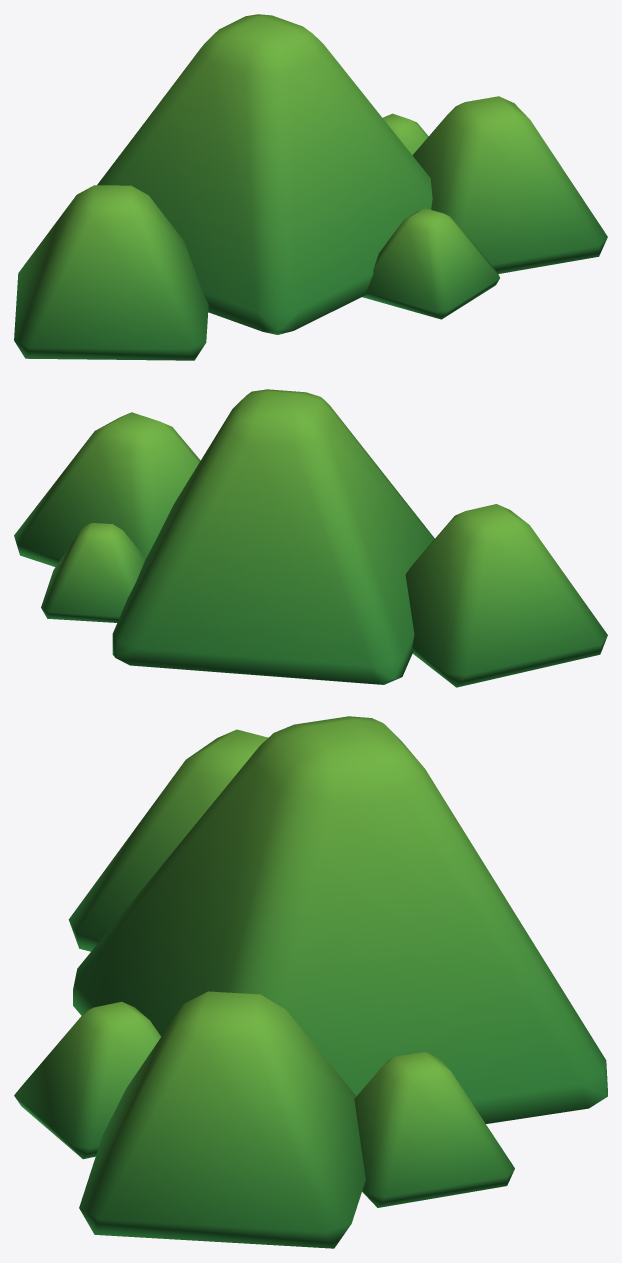
The model's file is Bush_4_F_Color1.glb.
3 renders of one model, top to bottom at view 1: azimuth 30°, elevation 25°; view 2: azimuth 150°, elevation 25°; view 3: azimuth 270°, elevation 25°, orthographic. The views are drawn at different scales.
Visible parts, largest first — view 1: Bush_4_F_Color1; view 2: Bush_4_F_Color1; view 3: Bush_4_F_Color1.
Part boxes in pixels (left/top/right/bottom): Bush_4_F_Color1: left=14, top=14, right=607, bottom=360; Bush_4_F_Color1: left=14, top=389, right=607, bottom=687; Bush_4_F_Color1: left=14, top=716, right=607, bottom=1248.
Size of the model in its own units: 3.39 by 1.3 by 2.14.
1 material, 1 textured.
